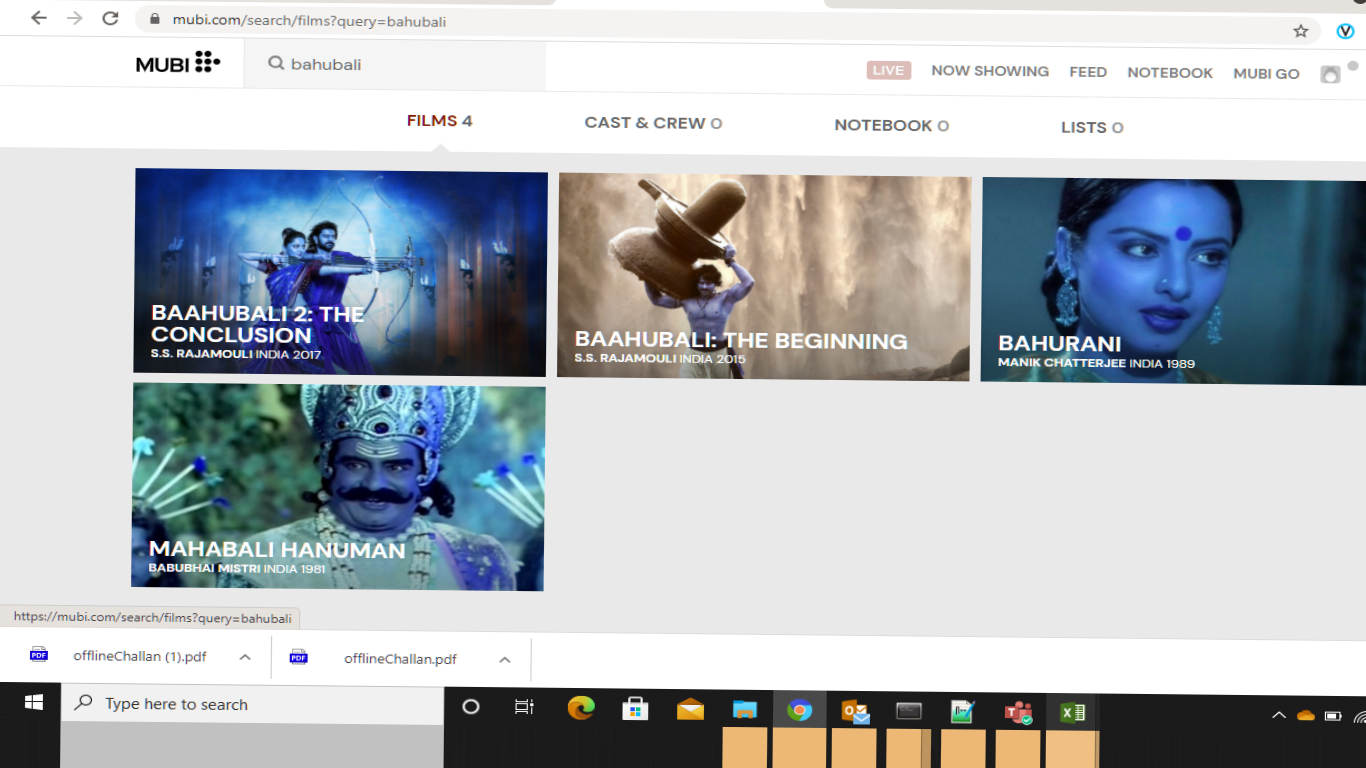profileicon: (1312, 55, 1357, 89)
searchicon: (253, 40, 289, 82)
searchtextbox: (238, 38, 549, 94)
